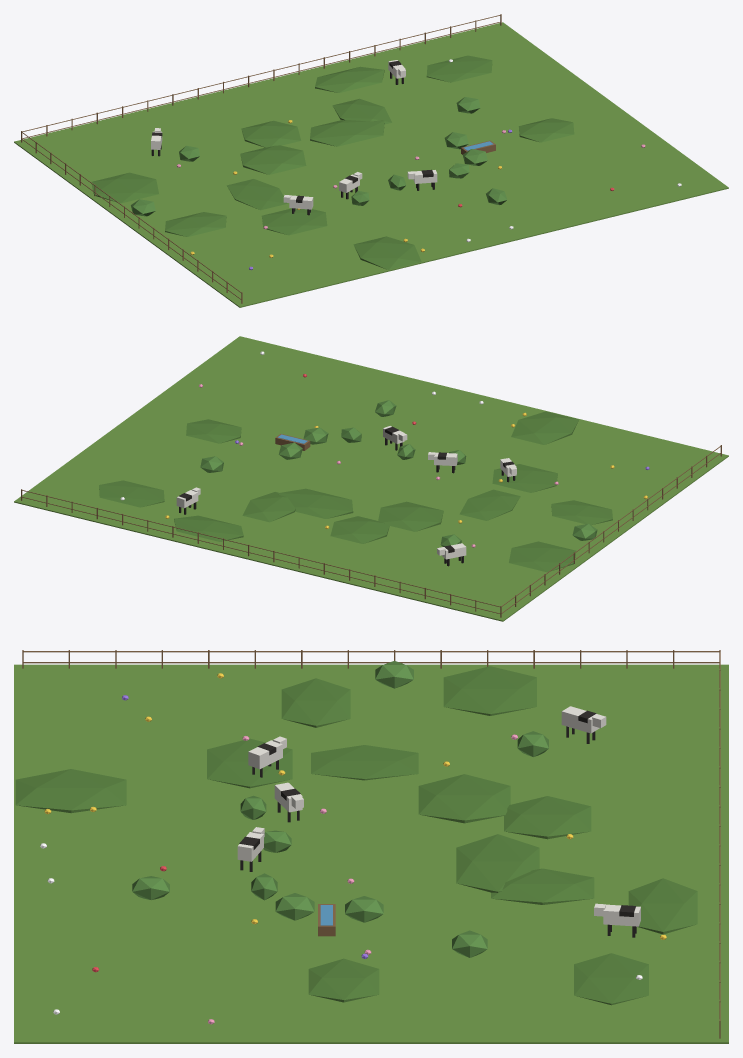
File: Kir_alan_cayir_1_Hafif.fbx
3 renders of one model, top to bottom at view 1: azimuth 30°, elevation 25°; view 2: azimuth 150°, elevation 25°; view 3: azimuth 270°, elevation 25°, orthographic. The views are drawn at different scales.
Parts seen in each view (by area): view 1: Kir_alan_cayir_1_Hafif; view 2: Kir_alan_cayir_1_Hafif; view 3: Kir_alan_cayir_1_Hafif.
Part boxes in pixels (x1,y1,x2,y2): Kir_alan_cayir_1_Hafif: (14,14,728,307); Kir_alan_cayir_1_Hafif: (14,336,728,621); Kir_alan_cayir_1_Hafif: (14,650,728,1043).
Size of the model in its own units: 50 by 1.95 by 40.
